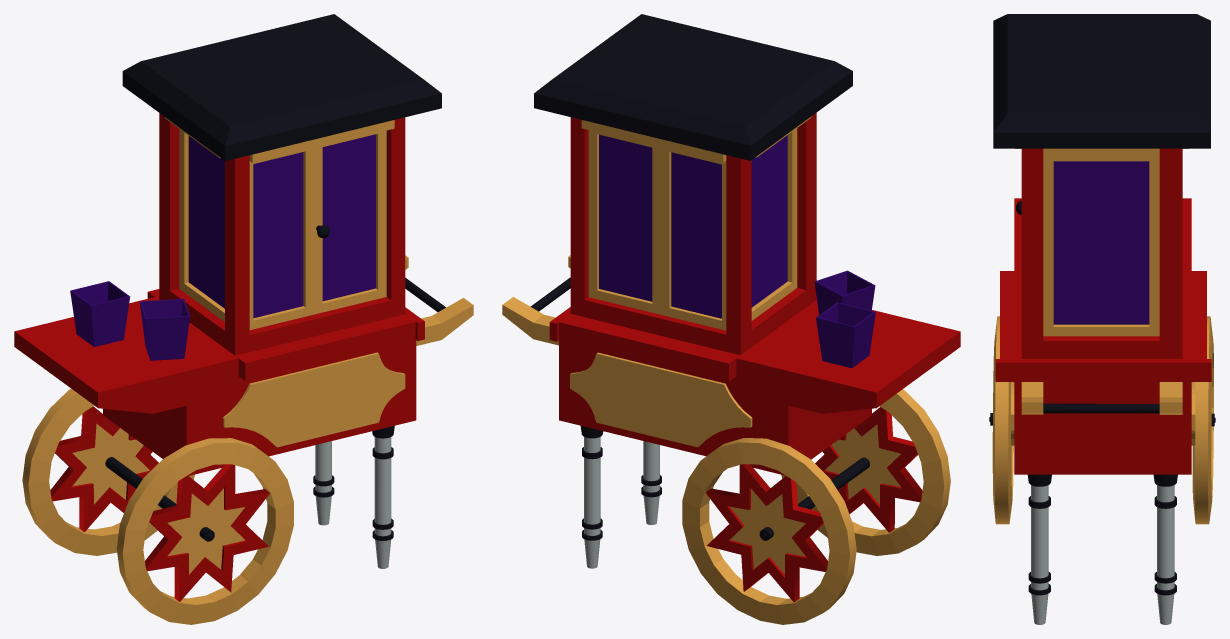
The model's file is F_Popcorn.fbx.
3 renders of one model, left to right at view 1: azimuth 30°, elevation 25°; view 2: azimuth 150°, elevation 25°; view 3: azimuth 270°, elevation 25°, orthographic. The views are drawn at different scales.
Visible parts, largest first — view 1: F_Popcorn_01; view 2: F_Popcorn_01; view 3: F_Popcorn_01.
Part boxes in pixels (x1,y1,x2,y2): F_Popcorn_01: (14,14,473,624); F_Popcorn_01: (502,14,960,624); F_Popcorn_01: (989,14,1215,624).
Size of the model in its own units: 293 by 363 by 143.
